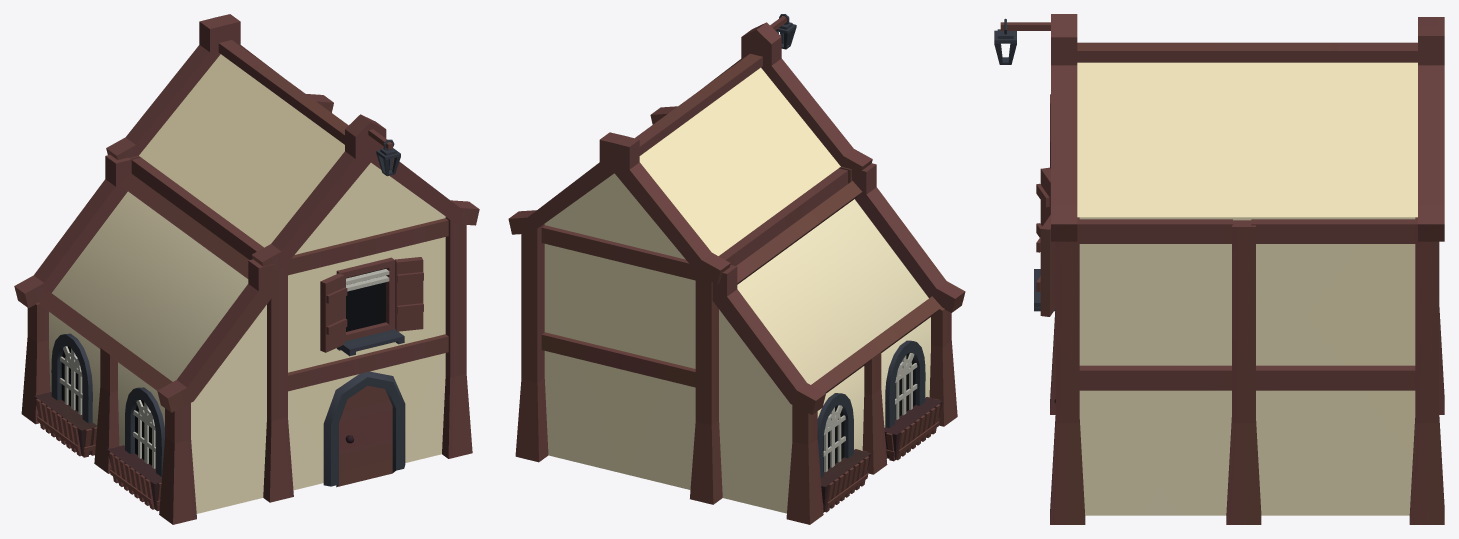
File: dom3.fbx
3 views of the same model, side by side, from view 1: azimuth 30°, elevation 25°; view 2: azimuth 150°, elevation 25°; view 3: azimuth 270°, elevation 25° (orthographic). The views are drawn at different scales.
Visible parts, largest first — view 1: Cube.058, Cube.059, Cube.073, Torus.008, Cube.064, Torus.007, Cube.060, Cube.077, Cube.062, Cube.074, Cube.075, Cube.076 (+7 smaller); view 2: Cube.058, Cube.060, Cube.073, Torus.007, Cube.059, Cube.076, Cube.062, Cube.074, Cube.077, Cube.075, Cube.078, Cube.066 (+3 smaller); view 3: Cube.058, Cube.059, Cube.060, Cube.061, Cube.062, Cube.064, Torus.006.
Part boxes in pixels (x1=…): Cube.058: x1=49, y1=54, x2=448, y2=513; Cube.059: x1=252, y1=114, x2=479, y2=502; Cube.073: x1=14, y1=154, x2=273, y2=412; Torus.008: x1=323, y1=371, x2=405, y2=487; Cube.064: x1=320, y1=257, x2=423, y2=352; Torus.007: x1=51, y1=333, x2=164, y2=476; Cube.060: x1=106, y1=14, x2=333, y2=173; Cube.077: x1=159, y1=403, x2=196, y2=524; Cube.062: x1=218, y1=40, x2=348, y2=144; Cube.074: x1=120, y1=173, x2=249, y2=278; Cube.075: x1=38, y1=291, x2=172, y2=390; Cube.076: x1=21, y1=302, x2=50, y2=424; Cube.058: x1=541, y1=67, x2=930, y2=513; Cube.060: x1=508, y1=132, x2=730, y2=504; Cube.073: x1=712, y1=163, x2=965, y2=414; Torus.007: x1=817, y1=340, x2=925, y2=477; Cube.059: x1=650, y1=22, x2=872, y2=183; Cube.076: x1=786, y1=405, x2=823, y2=524; Cube.062: x1=635, y1=53, x2=762, y2=155; Cube.074: x1=736, y1=181, x2=862, y2=284; Cube.077: x1=929, y1=307, x2=957, y2=426; Cube.075: x1=811, y1=296, x2=941, y2=393; Cube.078: x1=862, y1=352, x2=887, y2=474; Cube.066: x1=884, y1=397, x2=942, y2=460; Cube.058: x1=1077, y1=62, x2=1417, y2=515; Cube.059: x1=1050, y1=14, x2=1085, y2=524; Cube.060: x1=1409, y1=17, x2=1444, y2=524; Cube.061: x1=1226, y1=220, x2=1261, y2=524; Cube.062: x1=1077, y1=42, x2=1417, y2=62; Cube.064: x1=1036, y1=167, x2=1055, y2=316; Torus.006: x1=994, y1=18, x2=1016, y2=64.
Bounding box in the file's own units: 761 × 845 × 754.
